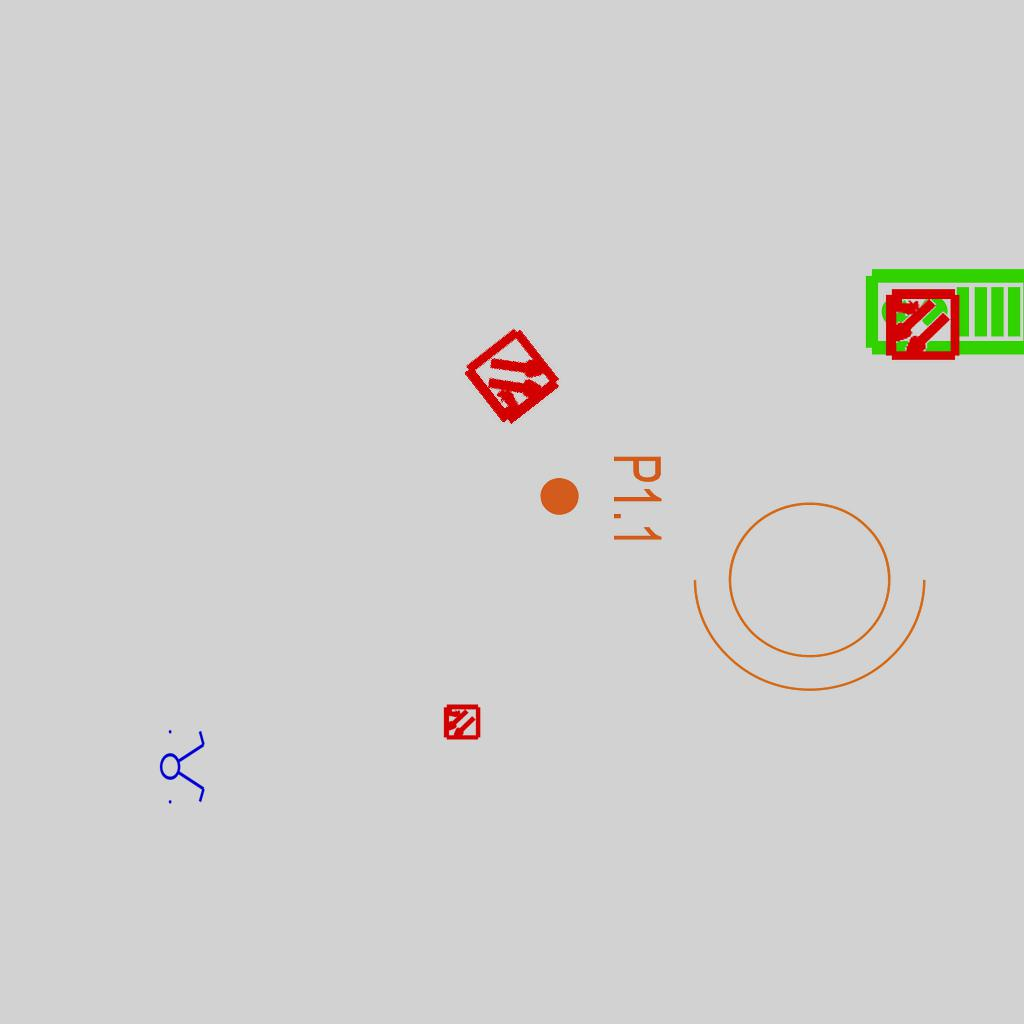Downlight_LED_Einbauleuchten_Flur: (537, 453, 665, 546)
Gegensprechanlage_mit_Video: (862, 266, 1024, 361)
OT_Multisensormelder_(Kombination_RMO_WMD): (434, 299, 593, 458), (864, 268, 977, 381), (433, 694, 489, 750)
Scheinwerfer_fuer_Alarmbeleuchtung: (684, 477, 948, 702)
Serienschalter: (159, 724, 207, 808)
